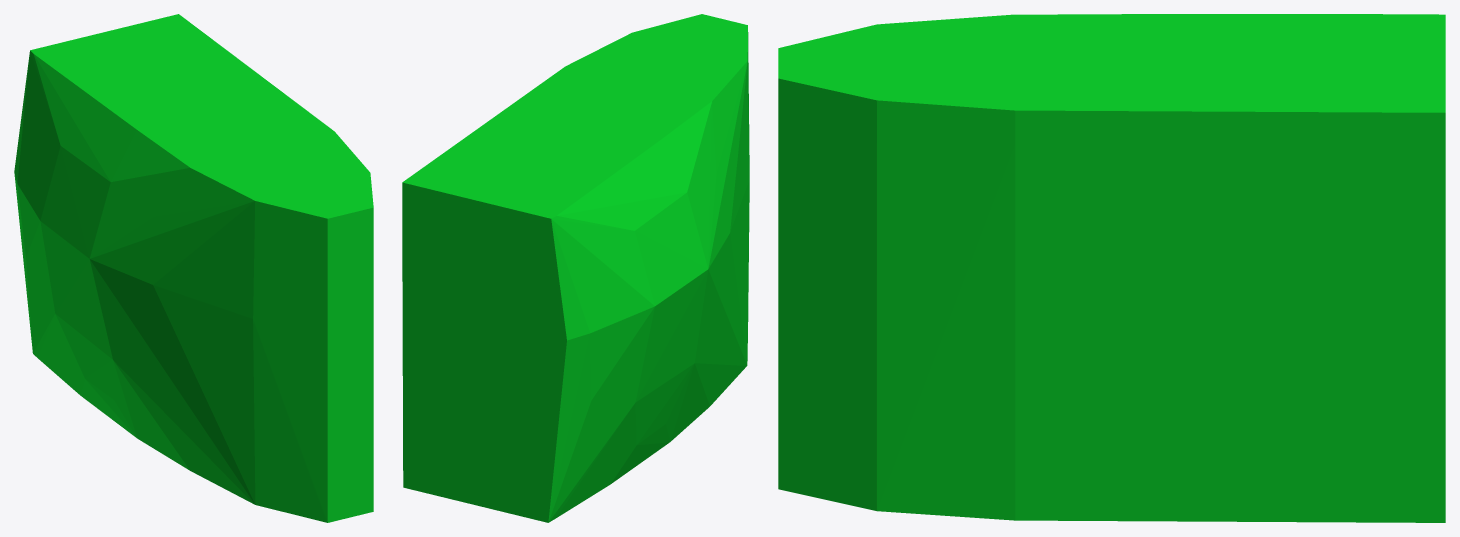
3 renders of one model, left to right at view 1: azimuth 30°, elevation 25°; view 2: azimuth 150°, elevation 25°; view 3: azimuth 270°, elevation 25°, orthographic. The views are drawn at different scales.
Bounding box in the file's own units: 1.96 × 2.89 × 4.25.
